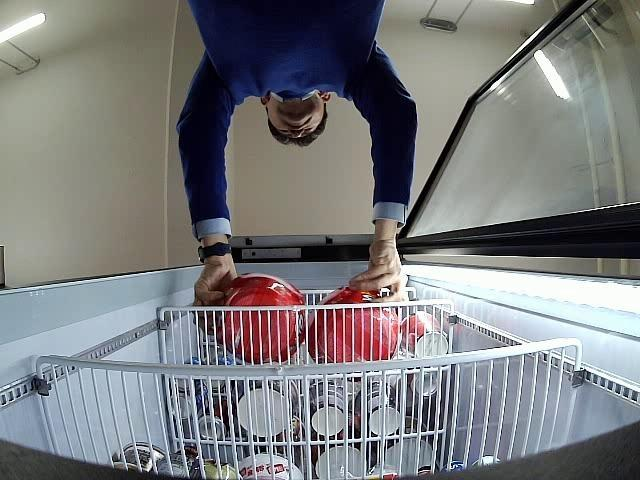10_wangTtukkeong: (218, 274, 306, 366), (309, 288, 401, 364)
